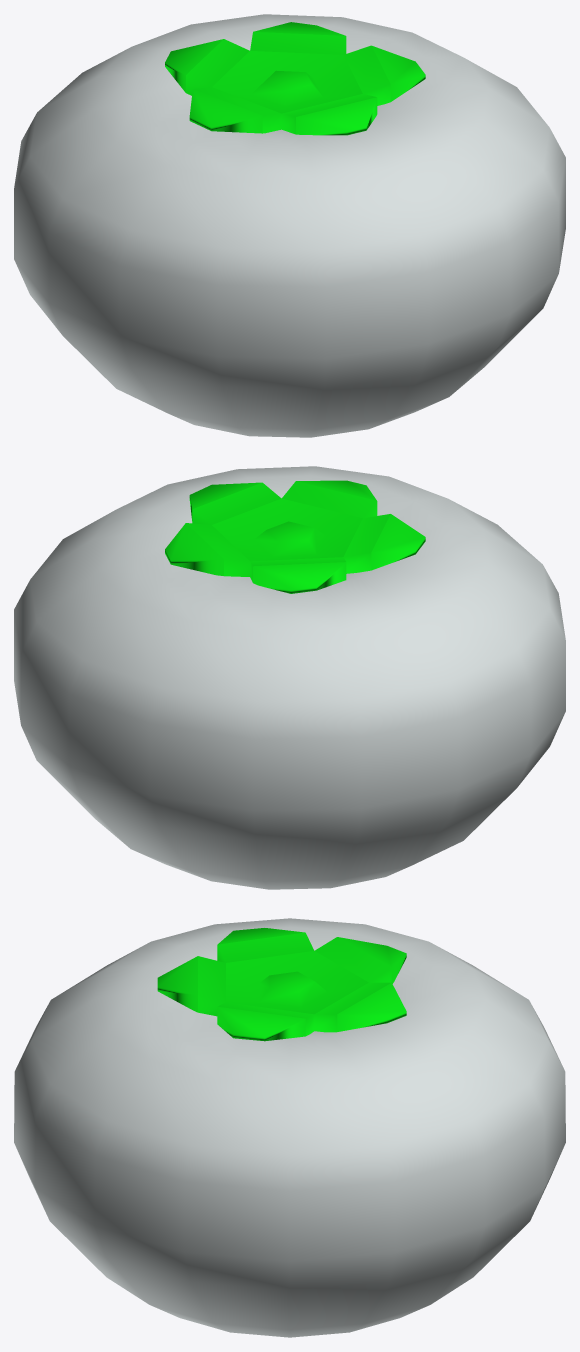
Rendered from Tomato.fbx.
The picture shows the model from 3 angles, top to bottom: view 1: azimuth 30°, elevation 25°; view 2: azimuth 150°, elevation 25°; view 3: azimuth 270°, elevation 25°; orthographic projection.
Visible parts, largest first — view 1: Sphere, Cylinder; view 2: Sphere, Cylinder; view 3: Sphere, Cylinder.
Part boxes in pixels (x1,y1,x2,y2): Sphere: (14,14,565,437); Cylinder: (165,22,425,135); Sphere: (14,466,565,889); Cylinder: (165,480,425,593); Sphere: (14,918,565,1337); Cylinder: (157,928,406,1041).
Size of the model in its own units: 46.36 by 30.77 by 46.46.
